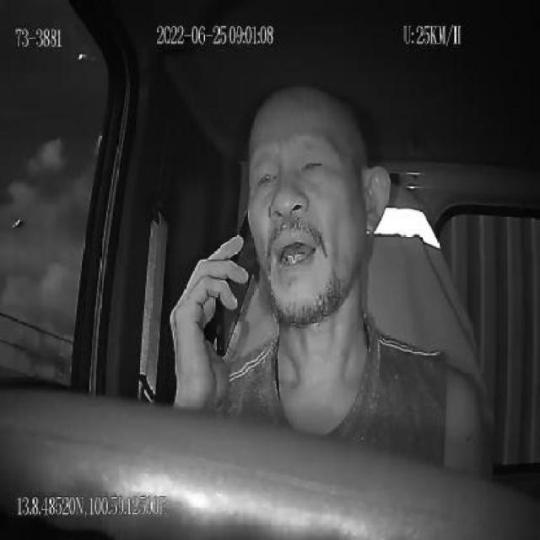phone: (212, 208, 259, 361)
